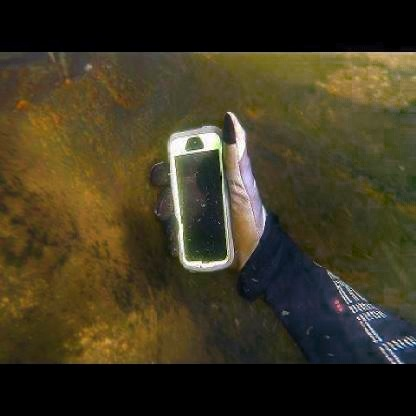cellphone: (167, 127, 236, 272)
